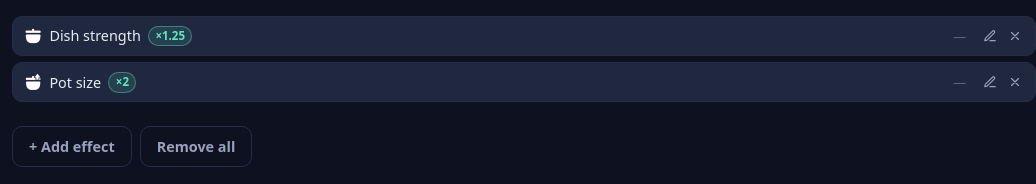
it: EventTab › removes one effect
Click the button named "Remove Dish strength": click(1015, 36) x1=1003 y1=24 x2=1027 y2=48
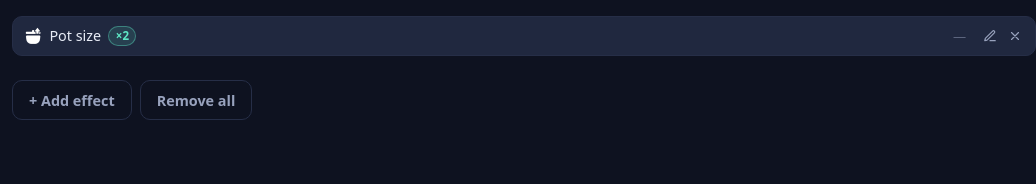
Check: the text "Pot size" is shown, box x1=49 y1=26 x2=101 y2=46
Check: the number of list items is 1, box x1=12 y1=16 x2=1035 y2=56
